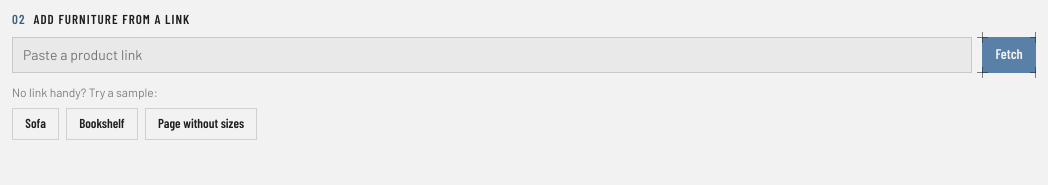
AddFurnitureSection › removes the error line when the user types again
Type "nope" into the field labelled "product link".
click(492, 55); type("nope")  # box x1=12 y1=37 x2=972 y2=73
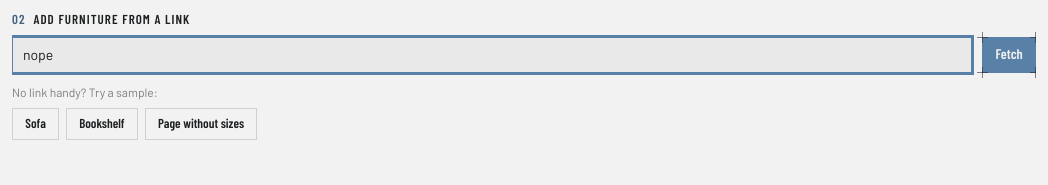
Click the button "Fetch".
click(1009, 55)  # box x1=982 y1=37 x2=1036 y2=73
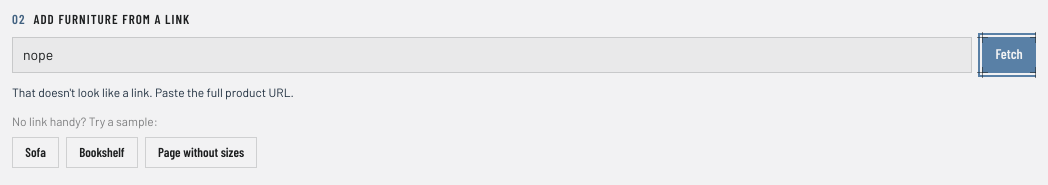
Now the message "That doesn't look like a link. Paste the full product URL." is shown, box x1=12 y1=85 x2=294 y2=99
Type "x" into the field named "product link".
click(492, 55); type("x")  # box x1=12 y1=37 x2=972 y2=73
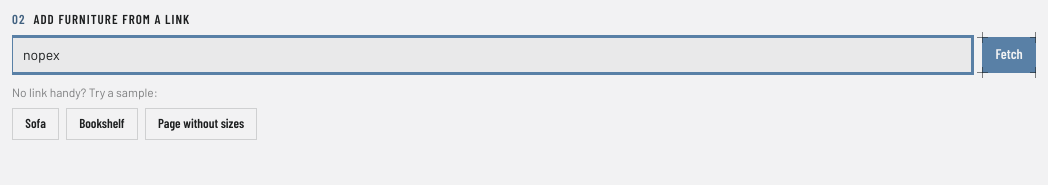
Now the message "That doesn't look like a link. Paste the full product URL." is gone
